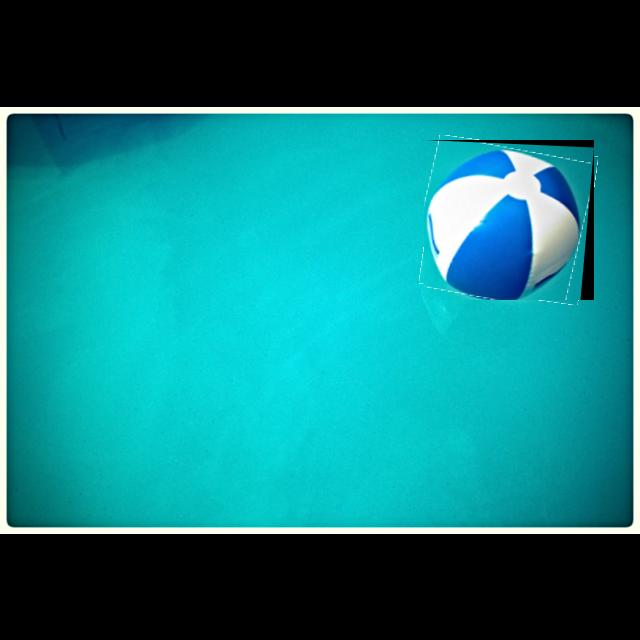Football: (424, 140, 594, 300)
